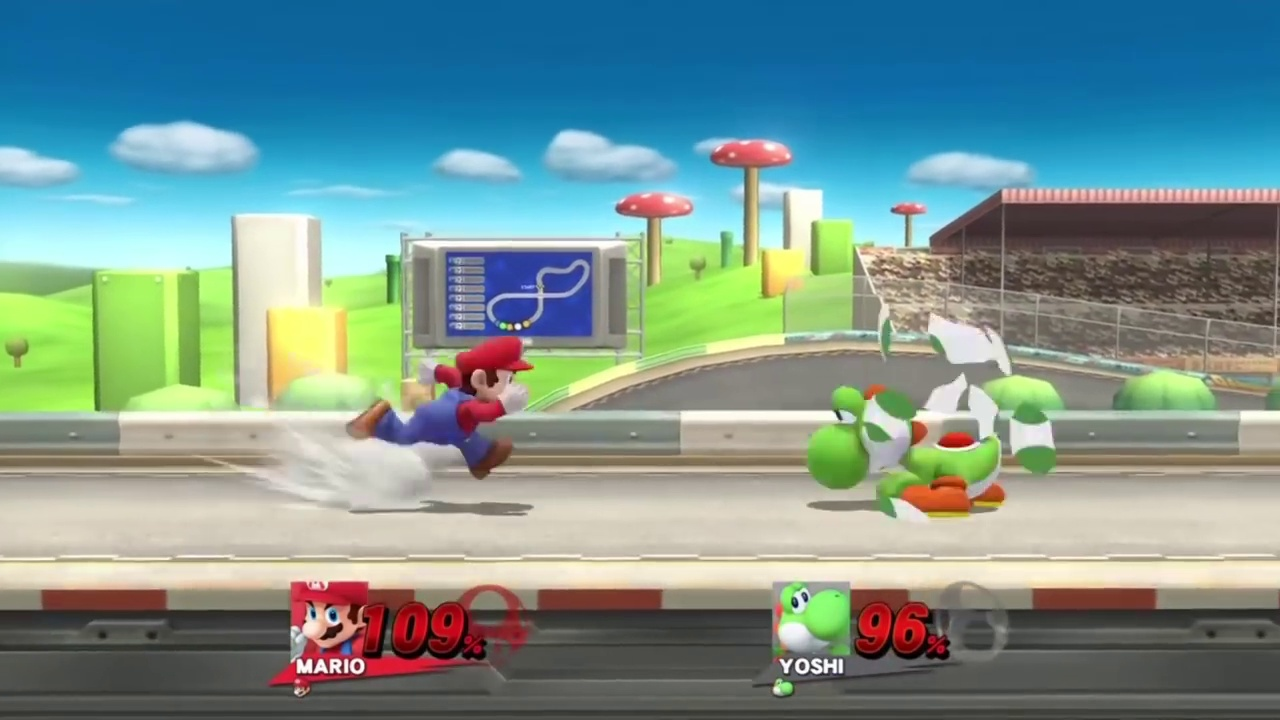Mario: (346, 336, 536, 478)
